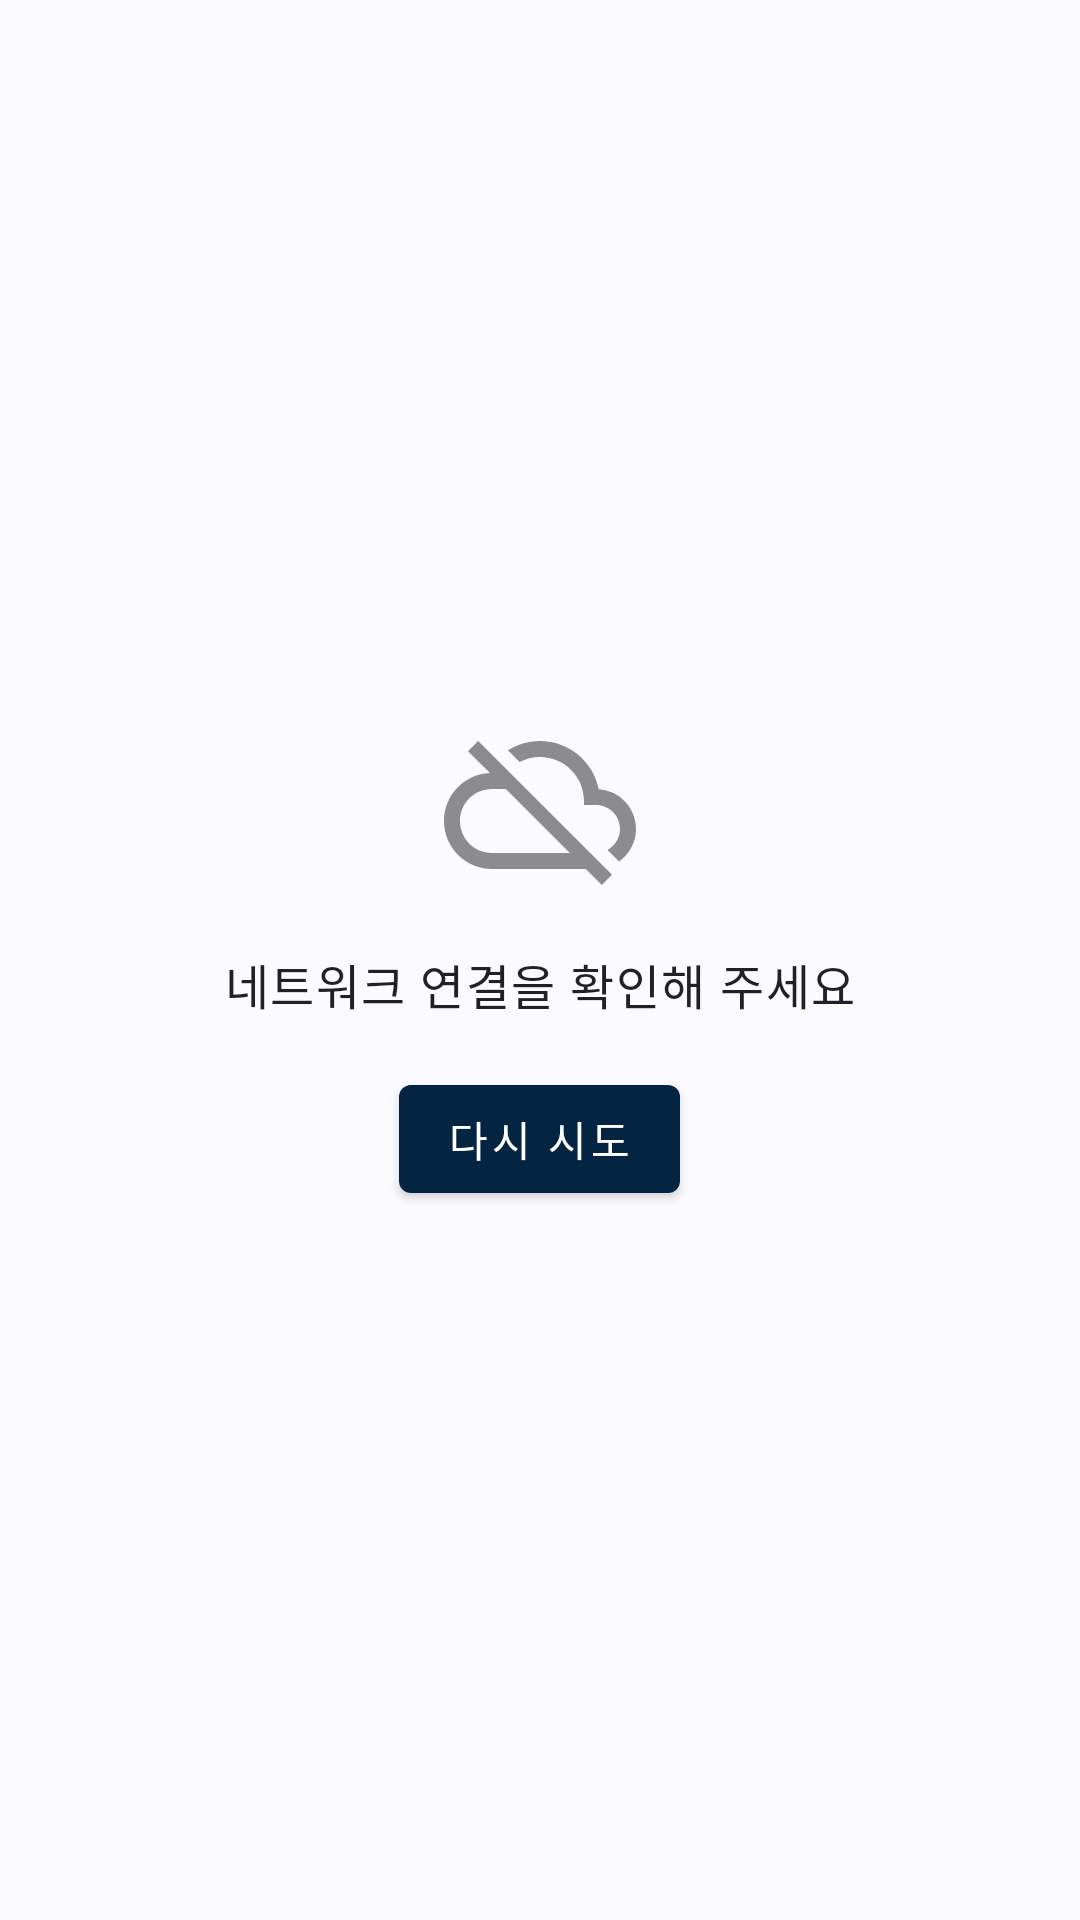

Icon bounding boxes for this 1080x1920 phone screenshot, format (x1, y1, x2, y2):
오류 아이콘: (444, 741, 636, 885)
